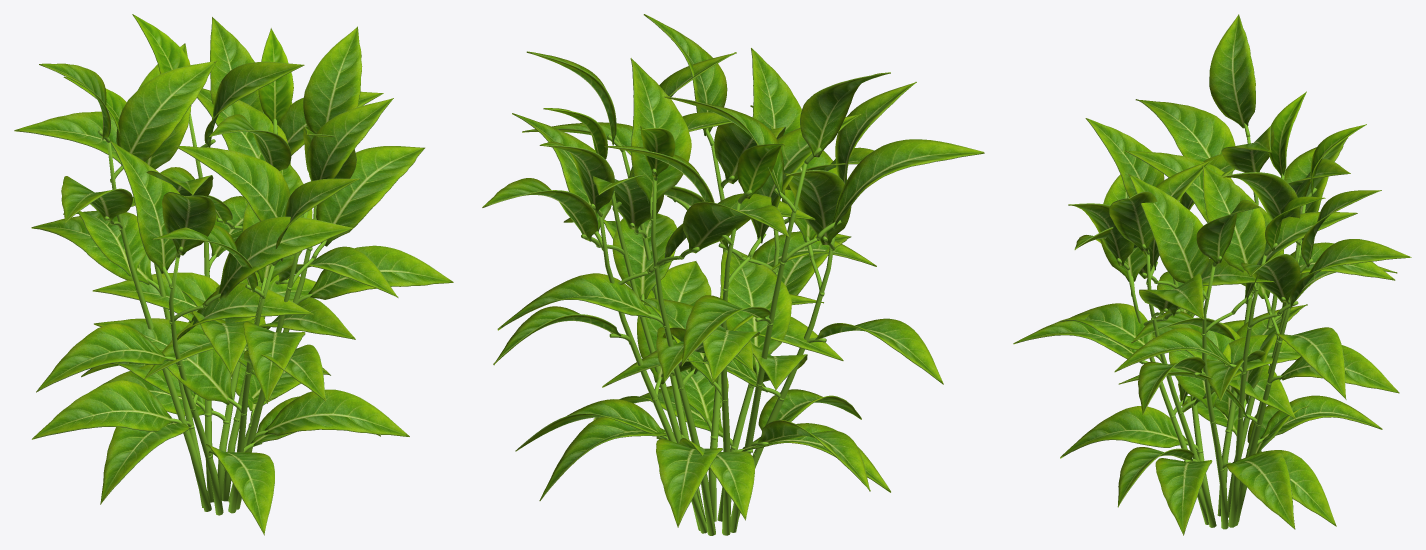
Rendered from NP_WaterSpinach_Ready.fbx.
3 views of the same model, side by side, from view 1: azimuth 30°, elevation 25°; view 2: azimuth 150°, elevation 25°; view 3: azimuth 270°, elevation 25° (orthographic). The views are drawn at different scales.
Parts seen in each view (by area): view 1: NP_WaterSpinach_Ready; view 2: NP_WaterSpinach_Ready; view 3: NP_WaterSpinach_Ready.
Boxes of the visible parts, x1,y1,x2,y2 form: NP_WaterSpinach_Ready: (14, 14, 453, 535); NP_WaterSpinach_Ready: (482, 14, 984, 535); NP_WaterSpinach_Ready: (1013, 14, 1411, 535).
Bounding box in the file's own units: 84.64 × 97.24 × 81.16.
